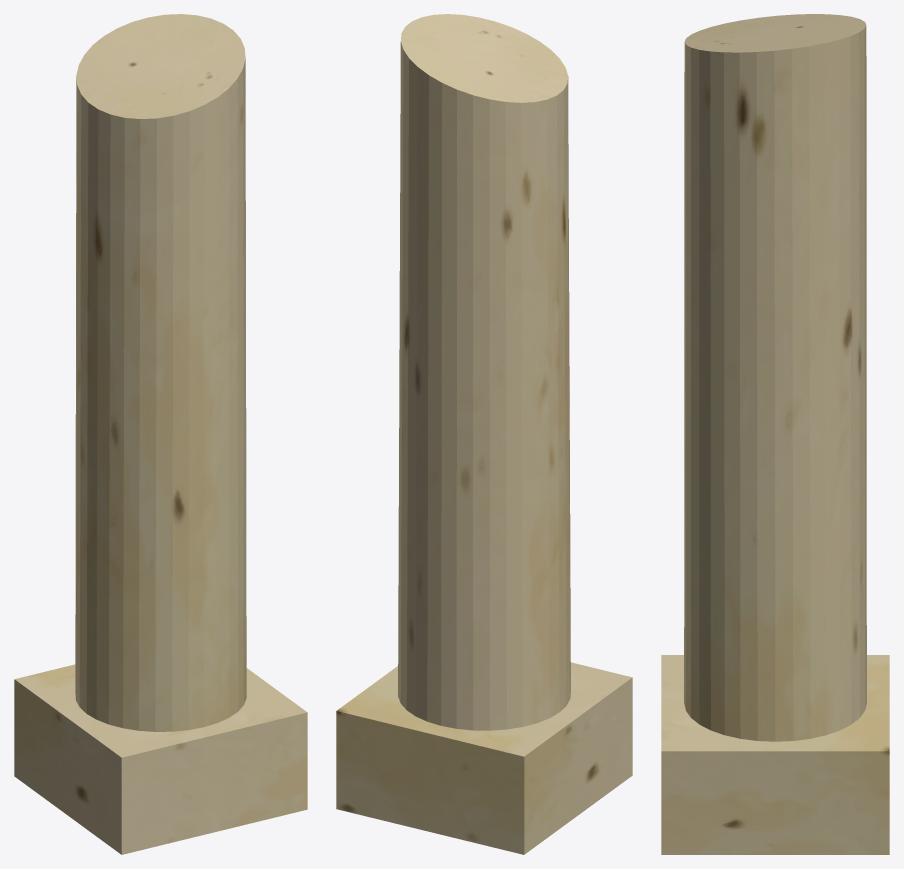
The model's file is colonne_vol2.fbx.
3 views of the same model, side by side, from view 1: azimuth 30°, elevation 25°; view 2: azimuth 150°, elevation 25°; view 3: azimuth 270°, elevation 25° (orthographic). The views are drawn at different scales.
Parts seen in each view (by area): view 1: Cylinder.001; view 2: Cylinder.001; view 3: Cylinder.001.
Part boxes in pixels (x1=…): Cylinder.001: x1=14, y1=14, x2=307, y2=854; Cylinder.001: x1=336, y1=14, x2=632, y2=854; Cylinder.001: x1=661, y1=14, x2=889, y2=854.
Size of the model in its own units: 100 by 100 by 384.
Materials: 1 (1 with a texture image).
